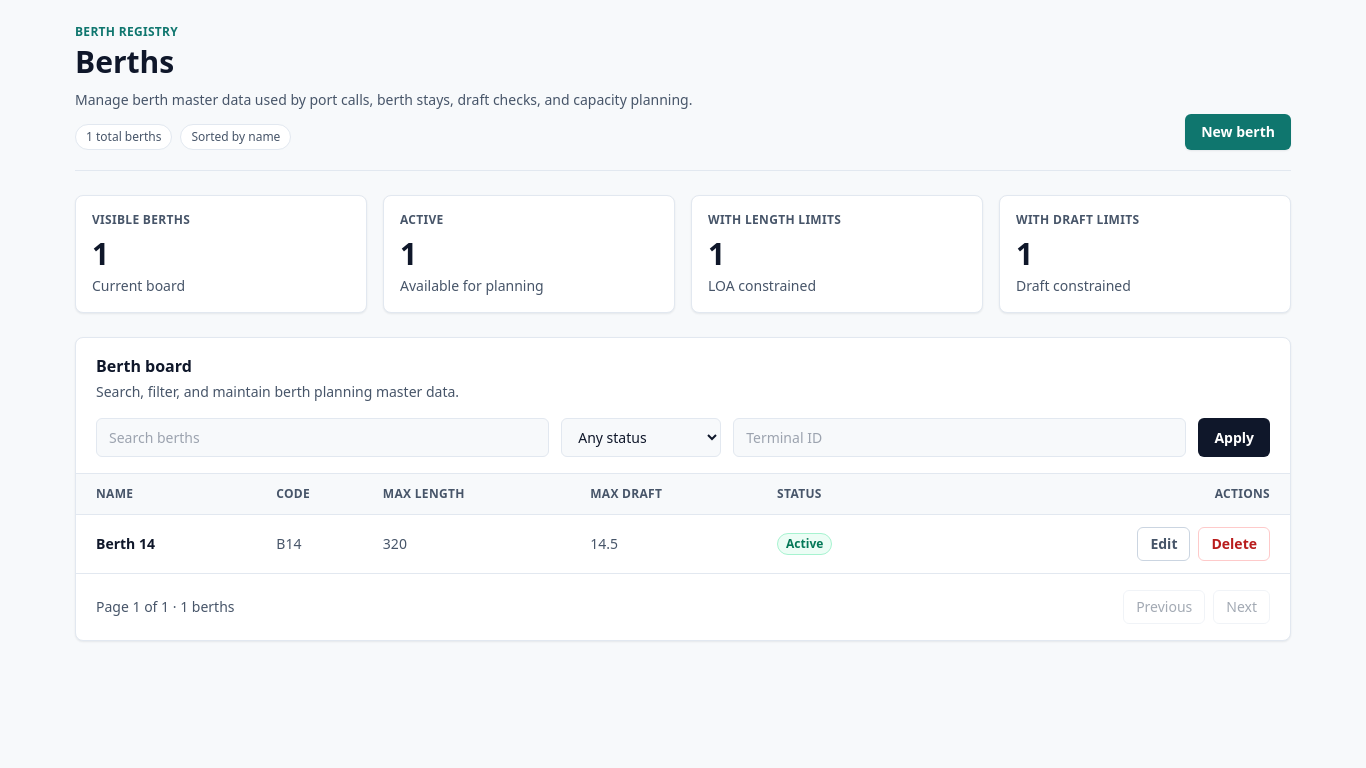
BerthsPage › loads the selected berth into the edit form
This screenshot has width=1366, height=768.
expect the text "Berth 14" is shown: met, box [76,514,275,573]
Step 1. Click the button "Edit" → [1164, 544], box [1137,527,1190,561]
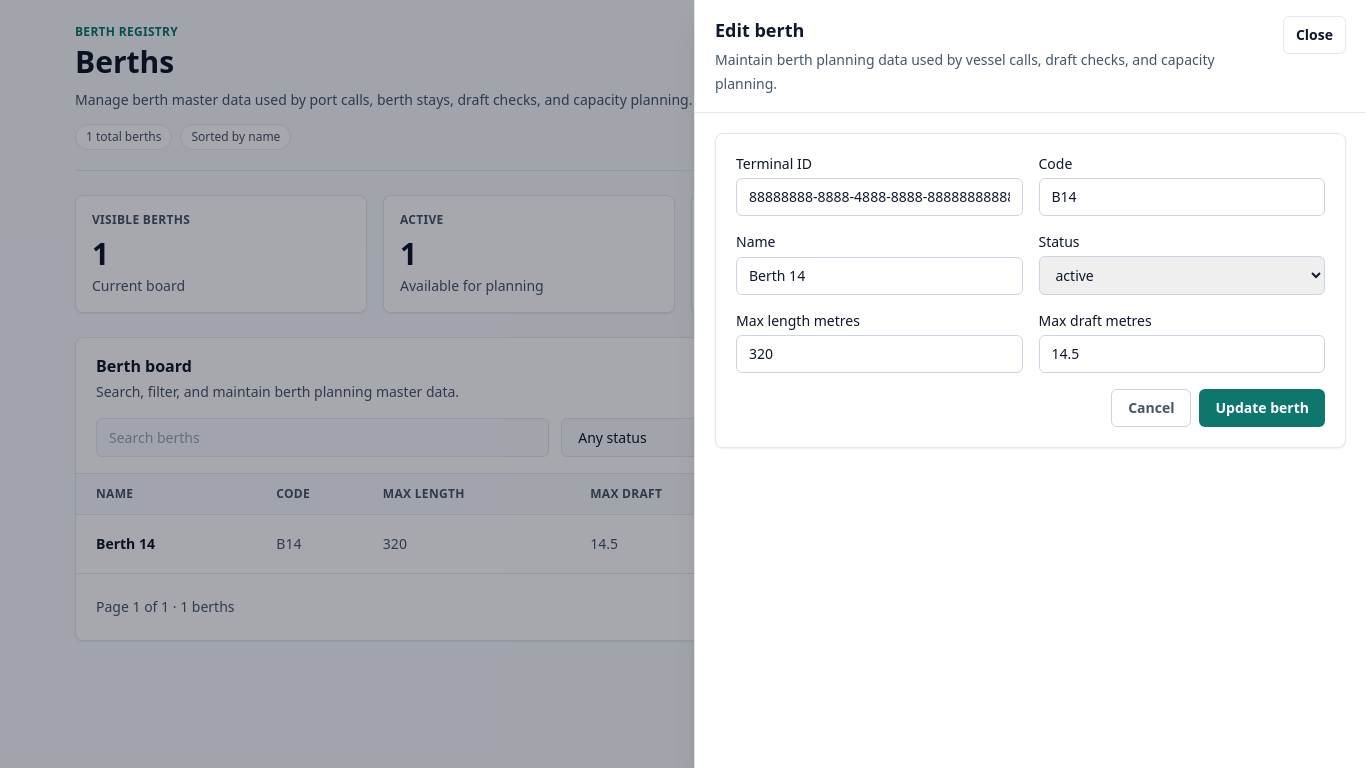
expect the field showing "88888888-8888-4888-8888-888888888888" is shown: met, box [736,178,1022,216]
expect the field showing "B14" is shown: met, box [1038,178,1325,216]
expect the field showing "Berth 14" is shown: met, box [736,256,1022,295]
